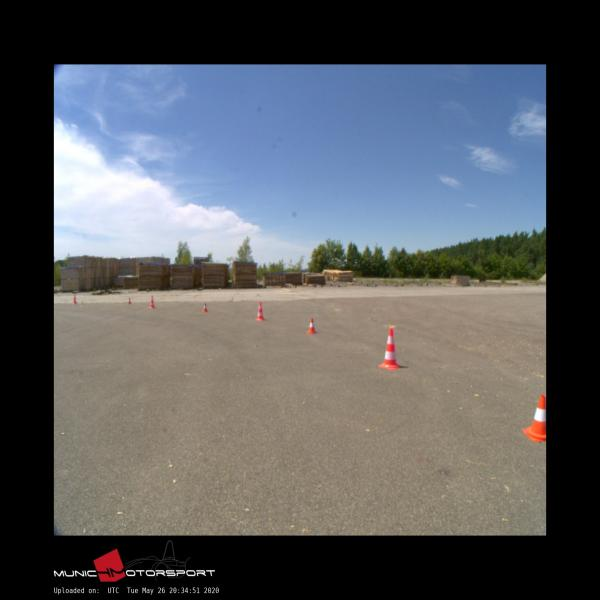large_orange_cone: (378, 327, 400, 369), (256, 302, 264, 319), (148, 295, 154, 308), (73, 294, 77, 303)
orange_cone: (522, 394, 546, 440), (307, 319, 316, 333), (202, 303, 207, 312), (128, 297, 132, 304)
